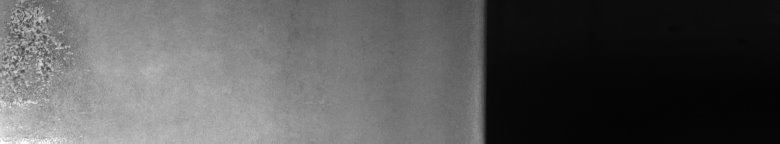hc: (4, 4, 83, 110)
